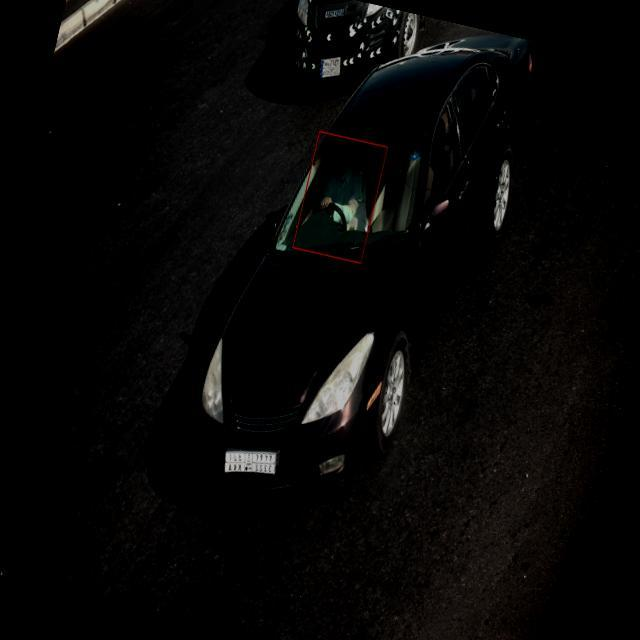windshield: (268, 141, 421, 271)
